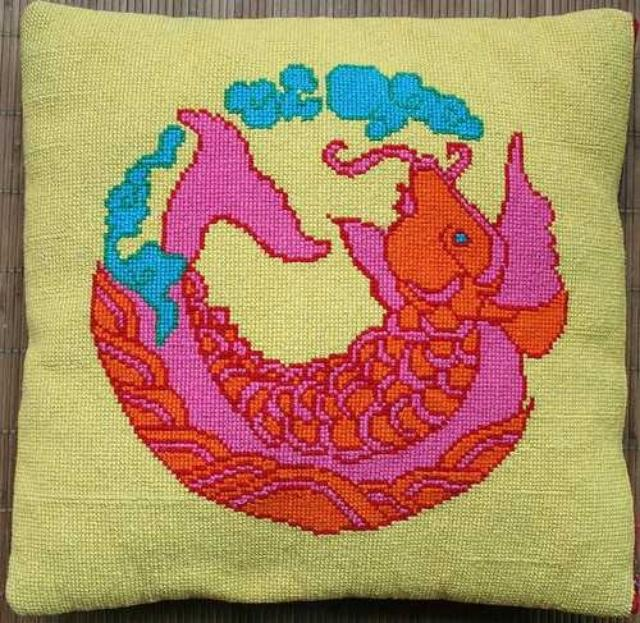pillow: (5, 0, 638, 616)
